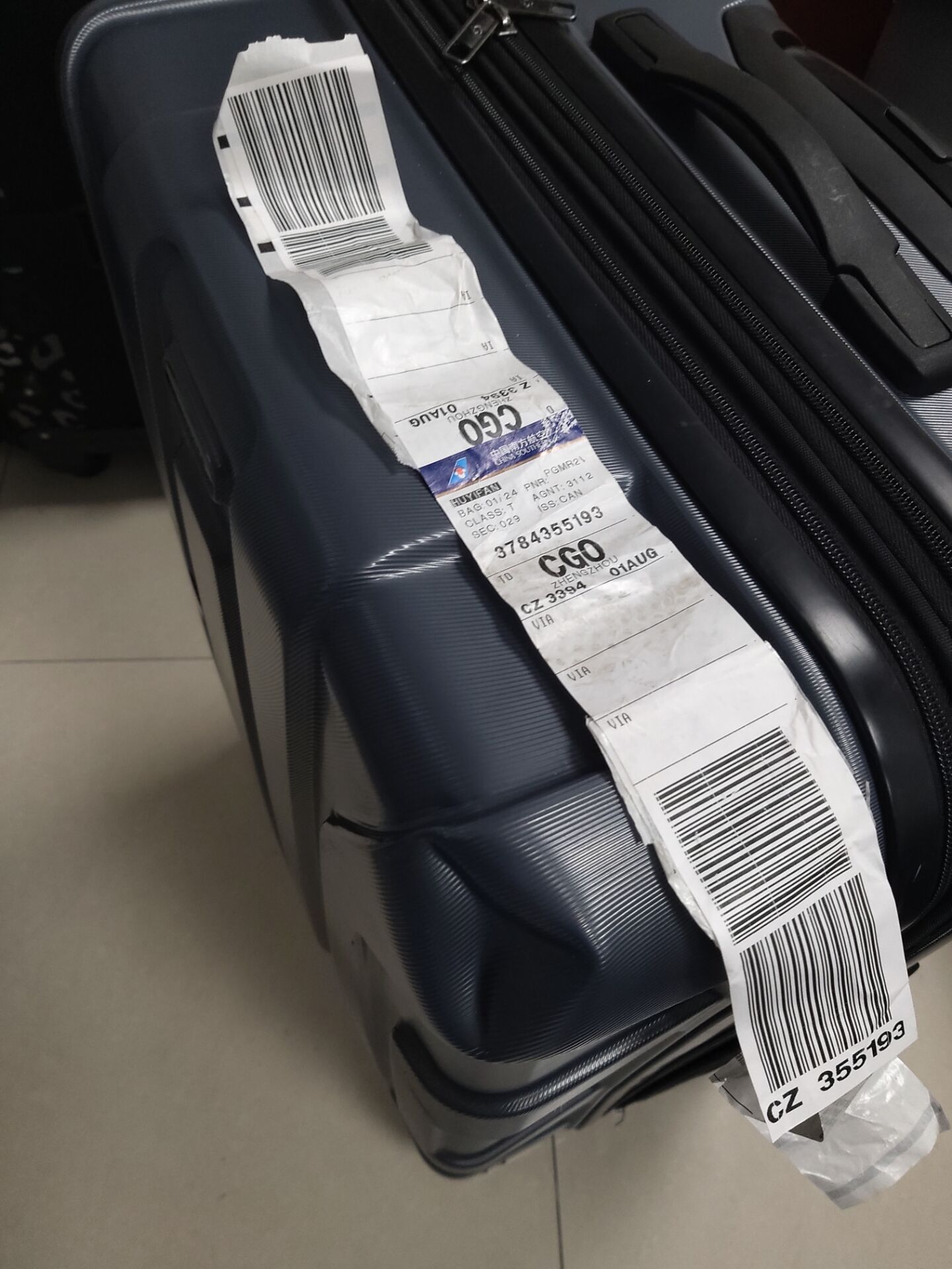rupture: (411, 829, 600, 1061)
